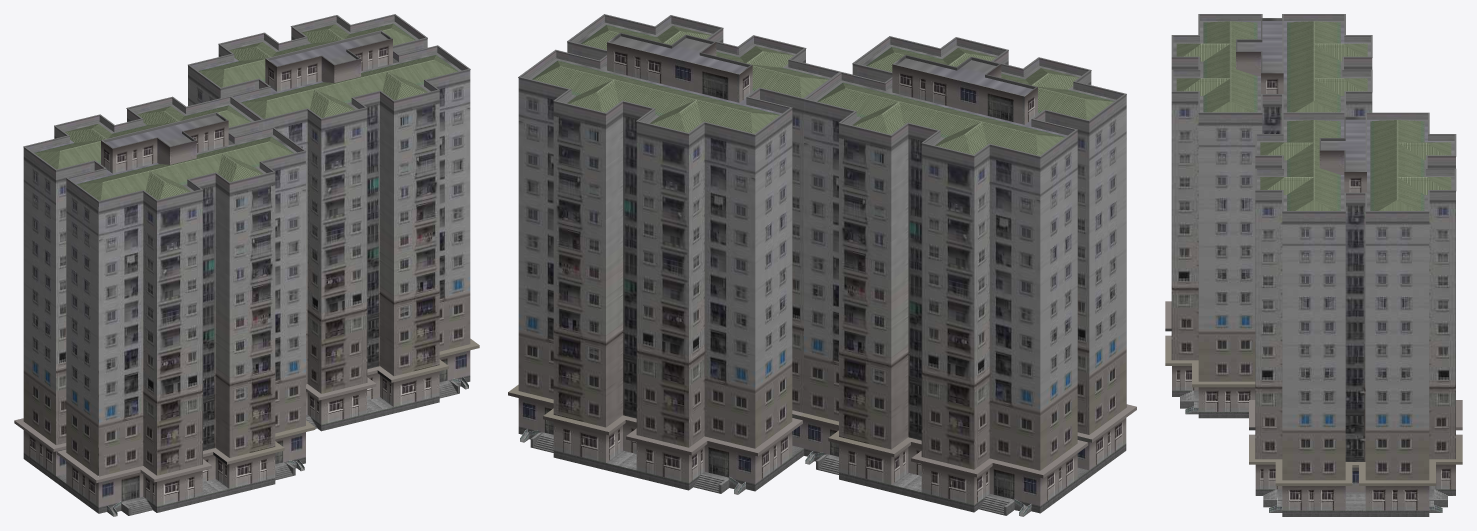
3 renders of one model, left to right at view 1: azimuth 30°, elevation 25°; view 2: azimuth 150°, elevation 25°; view 3: azimuth 270°, elevation 25°, orthographic. The views are drawn at different scales.
Visible parts, largest first — view 1: HN824_ChungCuE3BYenHoa; view 2: HN824_ChungCuE3BYenHoa; view 3: HN824_ChungCuE3BYenHoa.
Boxes of the visible parts, <box> form: HN824_ChungCuE3BYenHoa: <box>14,14,479,516</box>; HN824_ChungCuE3BYenHoa: <box>508,14,1136,516</box>; HN824_ChungCuE3BYenHoa: <box>1165,14,1462,516</box>.
Size of the model in its own units: 72 by 53.4 by 44.5.
Materials: 1 (1 with a texture image).
